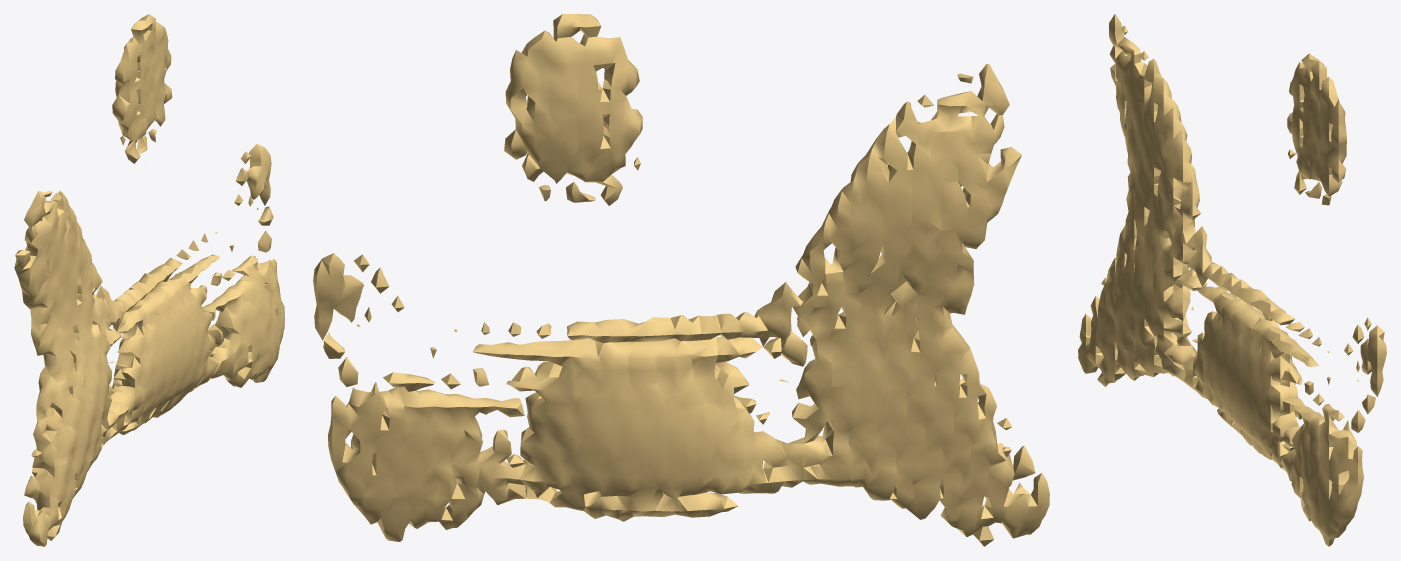
Rendered from envelope.mollified.von_mises.p99.glb.
The picture shows the model from 3 angles, left to right: view 1: azimuth 30°, elevation 25°; view 2: azimuth 150°, elevation 25°; view 3: azimuth 270°, elevation 25°; orthographic projection. The views are drawn at different scales.
Visible parts, largest first — view 1: envelope.mollified.von_mises.p99; view 2: envelope.mollified.von_mises.p99; view 3: envelope.mollified.von_mises.p99.
Boxes of the visible parts, x1,y1,x2,y2 form: envelope.mollified.von_mises.p99: [14, 14, 284, 546]; envelope.mollified.von_mises.p99: [313, 14, 1049, 546]; envelope.mollified.von_mises.p99: [1078, 14, 1386, 546].
Bounding box in the file's own units: 9.71 × 9.73 × 6.35.
